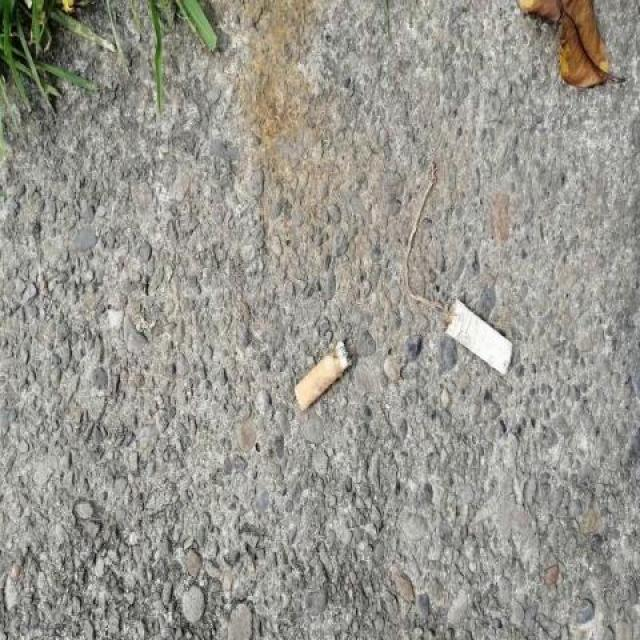non-organic waste: (438, 294, 517, 382), (291, 334, 357, 417)
